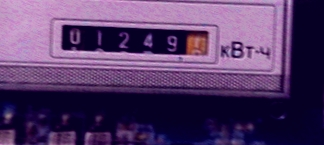0: (66, 27, 81, 48)
1: (91, 29, 103, 49)
2: (115, 31, 130, 52)
4: (140, 32, 153, 52)
7: (188, 32, 202, 51)
9: (163, 34, 178, 56)
screen: (39, 12, 218, 72)
